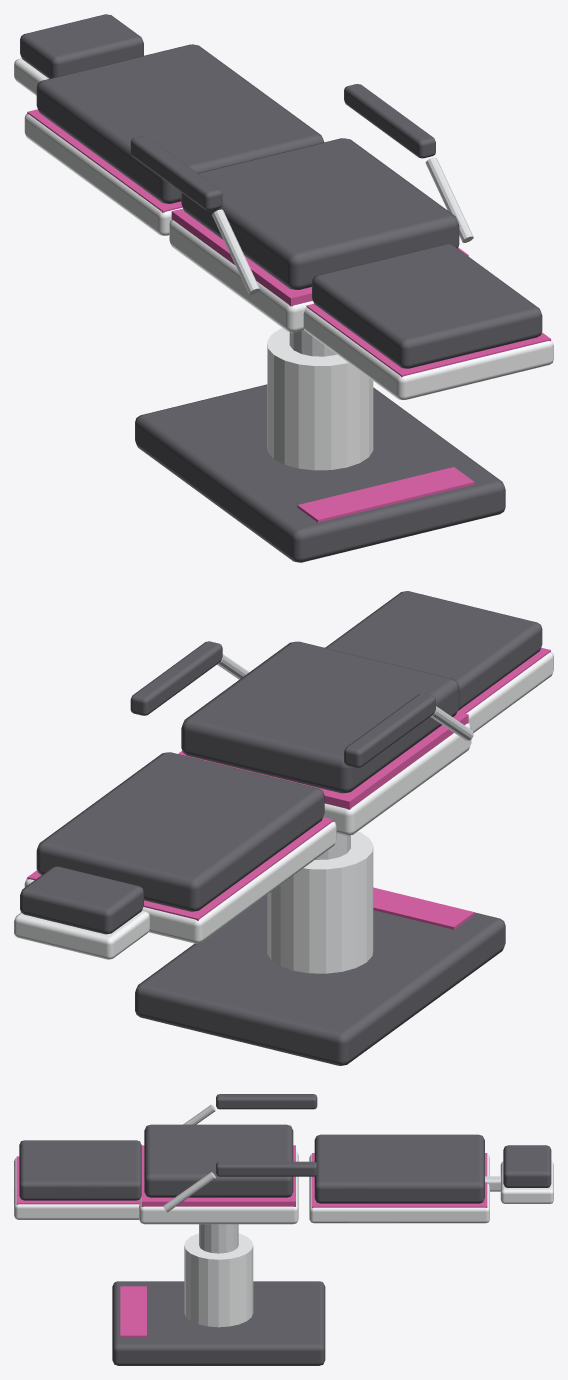
Rendered from tattoo-and-piercing-studio-tattoo-bed-flat-a3e9c365__34517.glb.
The picture shows the model from 3 angles, top to bottom: view 1: azimuth 30°, elevation 25°; view 2: azimuth 150°, elevation 25°; view 3: azimuth 270°, elevation 25°; orthographic projection. The views are drawn at different scales.
Visible parts, largest first — view 1: tattoo-bed-flat, chair-back-pad, headrest-pad, chair-back, chair-back-piping, headrest-shell; view 2: tattoo-bed-flat, chair-back-pad, headrest-pad, chair-back, headrest-shell, chair-back-piping; view 3: tattoo-bed-flat, chair-back-pad, chair-back, headrest-pad, chair-back-piping, headrest-shell.
Boxes of the visible parts, <box> form: tattoo-bed-flat: <box>130,84,553,562</box>; chair-back-pad: <box>36,44,323,203</box>; headrest-pad: <box>20,14,143,78</box>; chair-back: <box>24,114,182,235</box>; chair-back-piping: <box>27,109,182,212</box>; headrest-shell: <box>14,58,48,95</box>; tattoo-bed-flat: <box>130,591,553,1065</box>; chair-back-pad: <box>36,752,324,911</box>; headrest-pad: <box>20,866,143,934</box>; chair-back: <box>24,821,336,943</box>; headrest-shell: <box>14,910,149,959</box>; chair-back-piping: <box>27,817,333,920</box>; tattoo-bed-flat: <box>14,1094,325,1365</box>; chair-back-pad: <box>314,1134,484,1203</box>; chair-back: <box>309,1154,489,1223</box>; headrest-pad: <box>503,1145,551,1187</box>; chair-back-piping: <box>312,1153,487,1208</box>; headrest-shell: <box>500,1161,553,1203</box>.
Bounding box in the file's own units: 0.6501 × 0.85 × 2.03.
